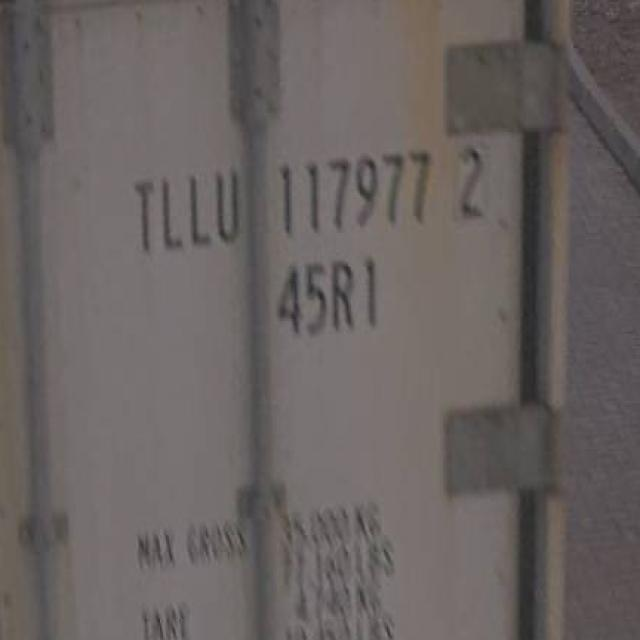dv: (446, 128, 491, 228)
owner: (119, 154, 253, 267)
serial: (269, 137, 438, 238)
size: (271, 249, 406, 347)
